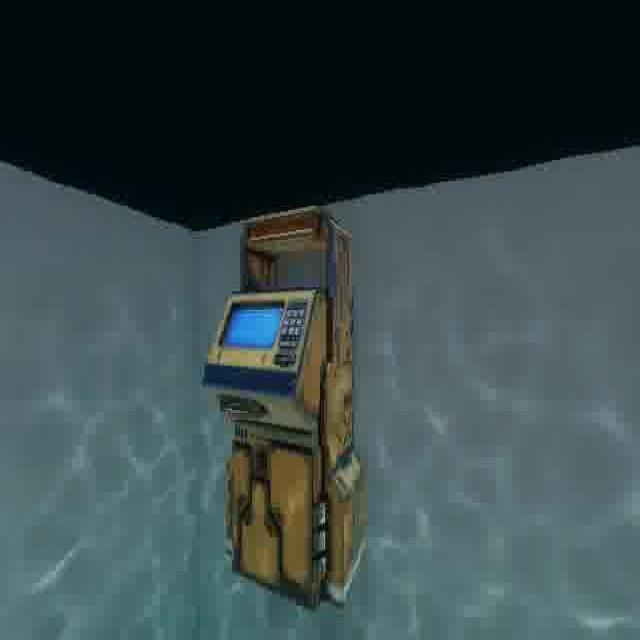Control Panel: (195, 199, 373, 621)
